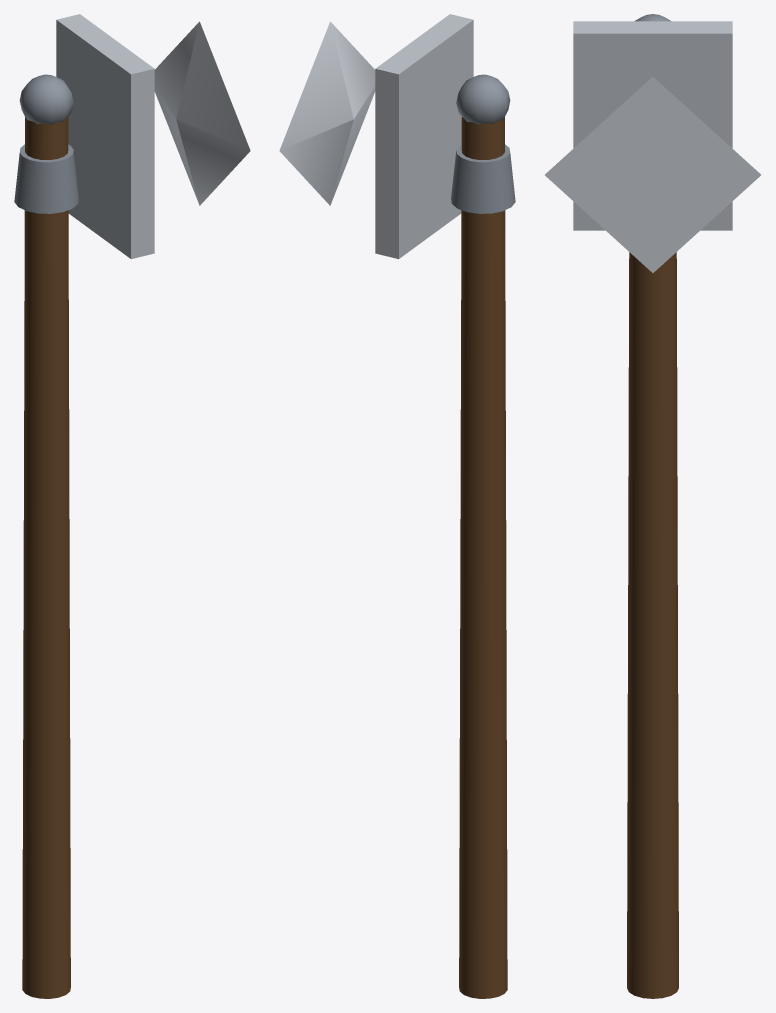
Rendered from axe.glb.
3 renders of one model, left to right at view 1: azimuth 30°, elevation 25°; view 2: azimuth 150°, elevation 25°; view 3: azimuth 270°, elevation 25°, orthographic. The views are drawn at different scales.
Parts seen in each view (by area): view 1: haft, headback, edge, collar, topspike; view 2: haft, headback, edge, collar, topspike; view 3: haft, edge, headback.
Part boxes in pixels (x1,y1,x2,y2): haft: (22,117,70,998); headback: (56,14,154,259); edge: (154,21,250,205); collar: (14,144,78,213); topspike: (19,74,73,124); haft: (459,117,507,998); headback: (375,14,473,259); edge: (279,21,375,205); collar: (451,144,515,213); topspike: (456,74,510,124); haft: (627,252,678,998); edge: (545,77,760,272); headback: (573,21,732,230).
Bounding box in the file's own units: 0.154 × 0.755 × 0.15.
